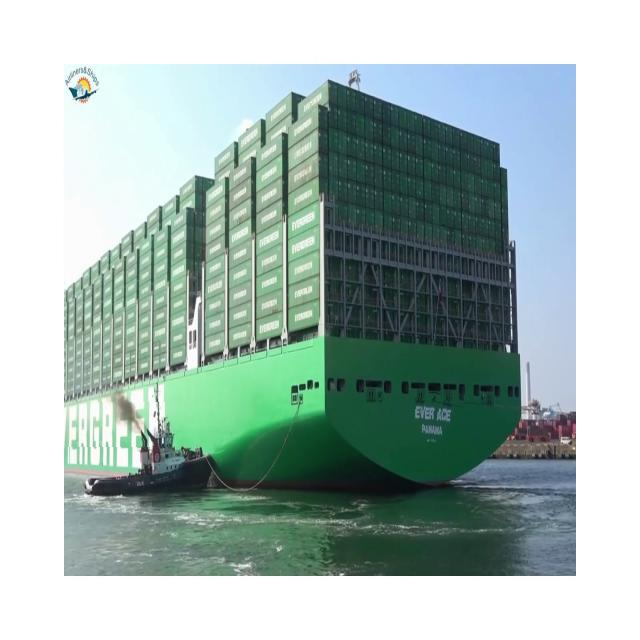OCR: (67, 379, 172, 491), (411, 390, 464, 444)
